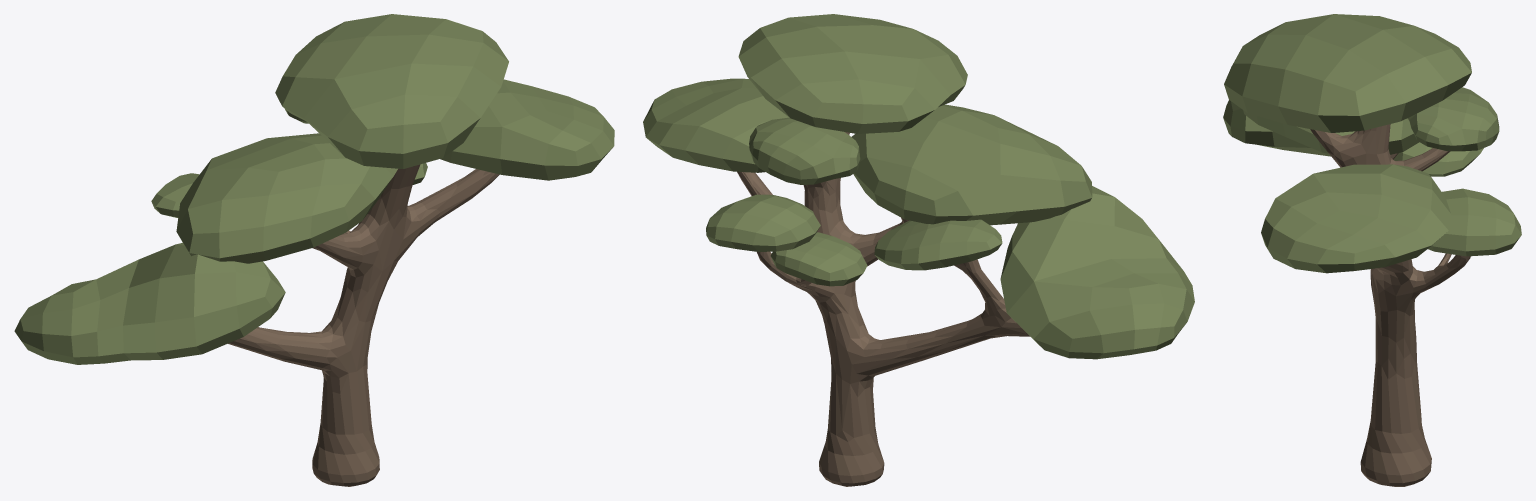
The model's file is tree-13.fbx.
The picture shows the model from 3 angles, left to right: view 1: azimuth 30°, elevation 25°; view 2: azimuth 150°, elevation 25°; view 3: azimuth 270°, elevation 25°; orthographic projection. The views are drawn at different scales.
Parts seen in each view (by area): view 1: Cube.033, Cube.030, Cube.029, Cube.031, Cube.032, Cube.037; view 2: Cube.030, Cube.031, Cube.033, Cube.029, Cube.032, Cube.036, Cube.035, Cube.037, Cube.034; view 3: Cube.033, Cube.032, Cube.029, Cube.035, Cube.036, Cube.030, Cube.031, Cube.037.
Part boxes in pixels (x1,y1,x2,y2): Cube.033: (275,14,508,168); Cube.030: (14,242,285,364); Cube.029: (228,164,499,486); Cube.031: (176,133,397,263); Cube.032: (440,79,614,180); Cube.037: (151,173,199,217); Cube.030: (1000,186,1194,359); Cube.031: (851,104,1092,225); Cube.033: (738,14,967,133); Cube.029: (737,132,1030,486); Cube.032: (643,78,788,172); Cube.036: (749,117,860,184); Cube.035: (706,194,820,251); Cube.037: (874,219,1002,270); Cube.034: (770,232,867,286); Cube.033: (1224,14,1471,132); Cube.032: (1261,164,1450,273); Cube.029: (1310,124,1470,486); Cube.035: (1428,188,1521,256); Cube.036: (1407,87,1499,151); Cube.030: (1223,100,1330,156); Cube.031: (1243,110,1419,154); Cube.037: (1393,142,1483,176).
Bounding box in the file's own units: 3165 × 2393 × 1411.
